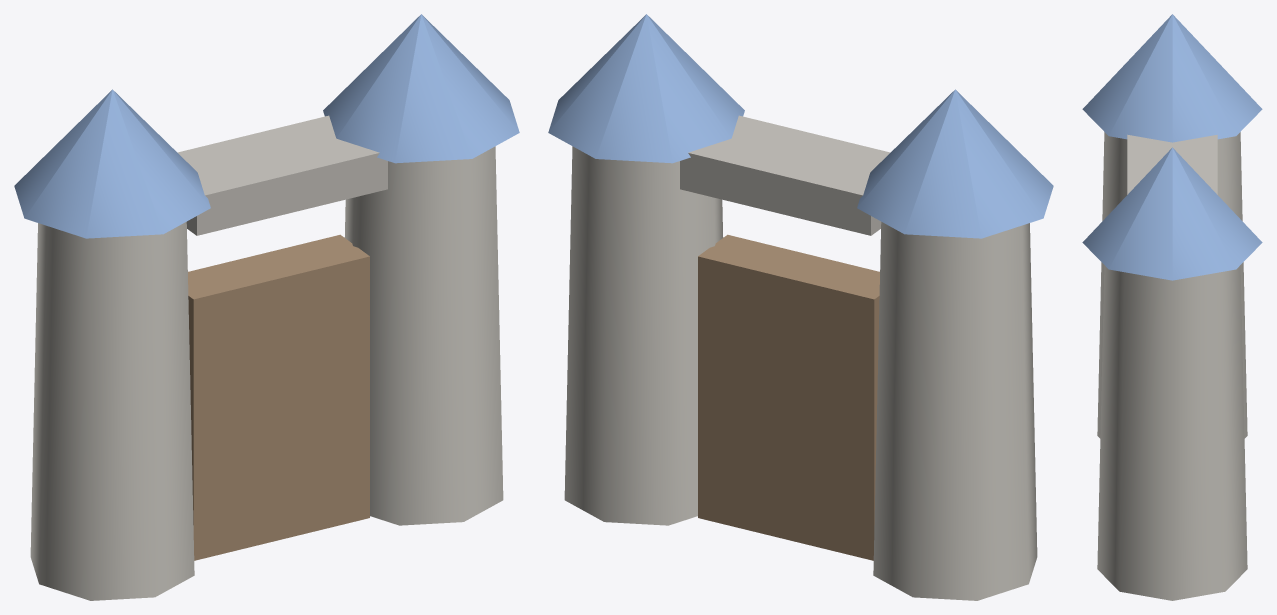
File: castle_gate.glb
3 renders of one model, left to right at view 1: azimuth 30°, elevation 25°; view 2: azimuth 150°, elevation 25°; view 3: azimuth 270°, elevation 25°, orthographic. The views are drawn at different scales.
Parts seen in each view (by area): view 1: castle_gate; view 2: castle_gate; view 3: castle_gate.
Part boxes in pixels (x1,y1,x2,y2): castle_gate: [14, 14, 519, 600]; castle_gate: [548, 14, 1053, 600]; castle_gate: [1082, 14, 1262, 600].
Bounding box in the file's own units: 3.3 × 3.1 × 1.2.
